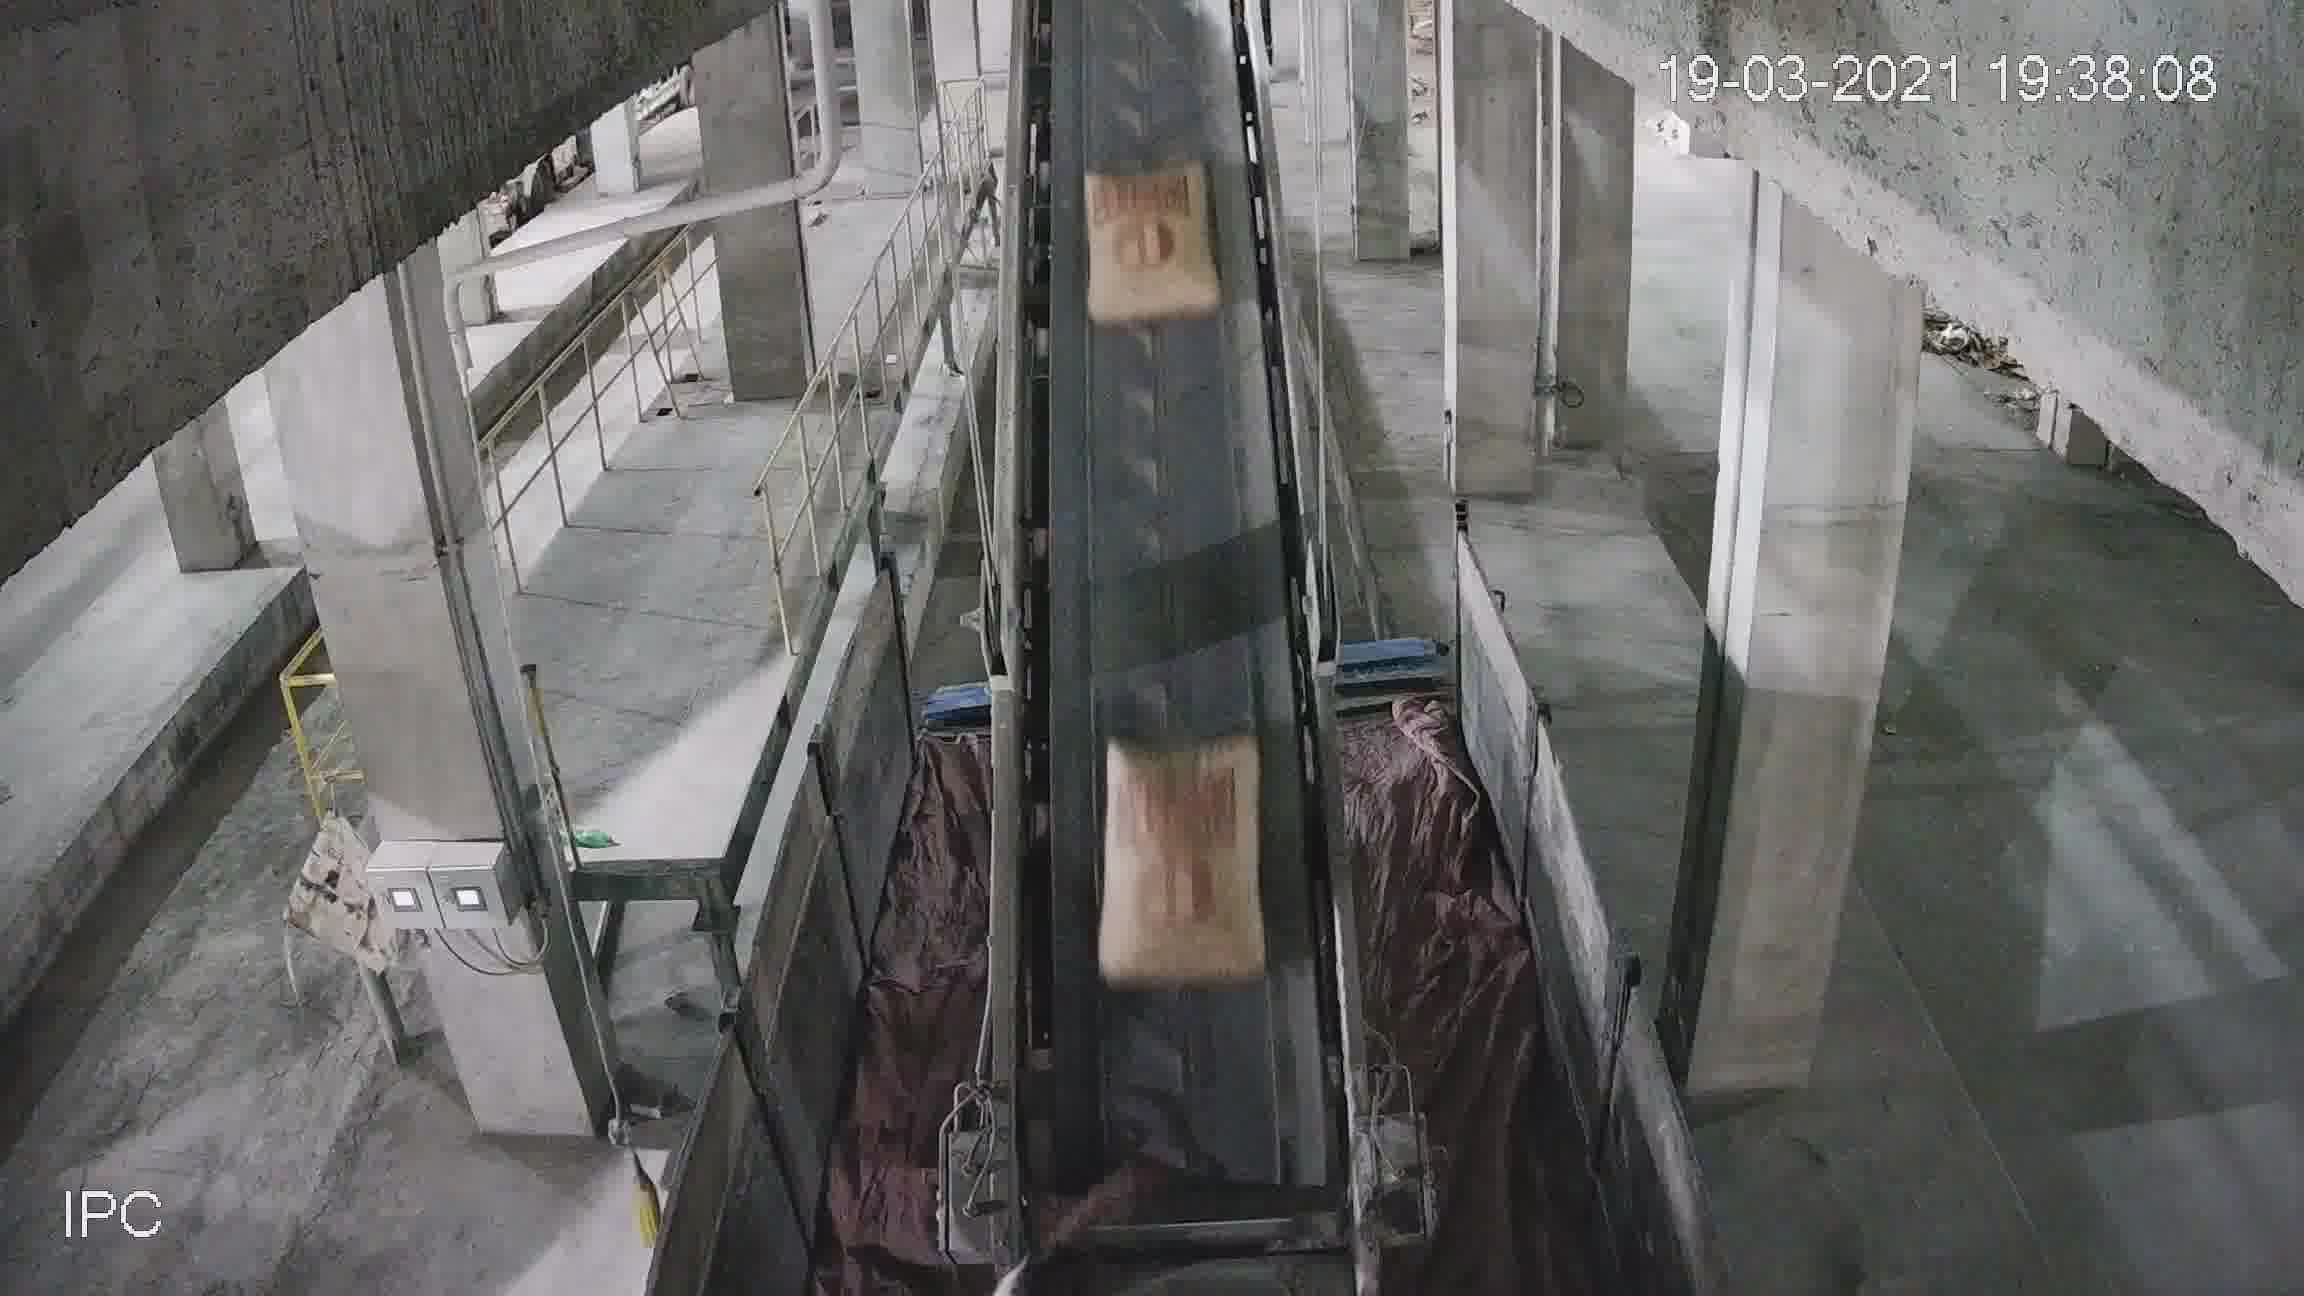bag: (1100, 747, 1266, 981), (1086, 166, 1212, 324)
belt: (997, 196, 1348, 1195)
